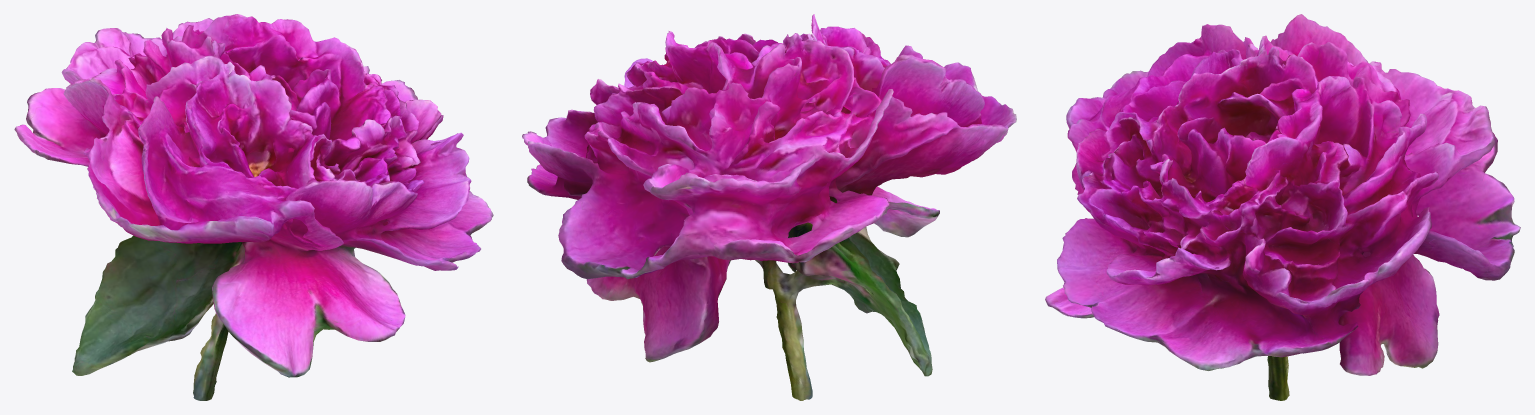
Rendered from HoaHongXoe.glb.
The picture shows the model from 3 angles, left to right: view 1: azimuth 30°, elevation 25°; view 2: azimuth 150°, elevation 25°; view 3: azimuth 270°, elevation 25°; orthographic projection.
Parts seen in each view (by area): view 1: 3Ddata_0; view 2: 3Ddata_0; view 3: 3Ddata_0.
Boxes of the visible parts, left/top/right/bottom form: 3Ddata_0: left=14, top=14, right=493, bottom=400; 3Ddata_0: left=522, top=14, right=1016, bottom=400; 3Ddata_0: left=1045, top=14, right=1520, bottom=400.
Size of the model in its own units: 0.1504 by 0.1258 by 0.1531.
Materials: 1 (1 with a texture image).
